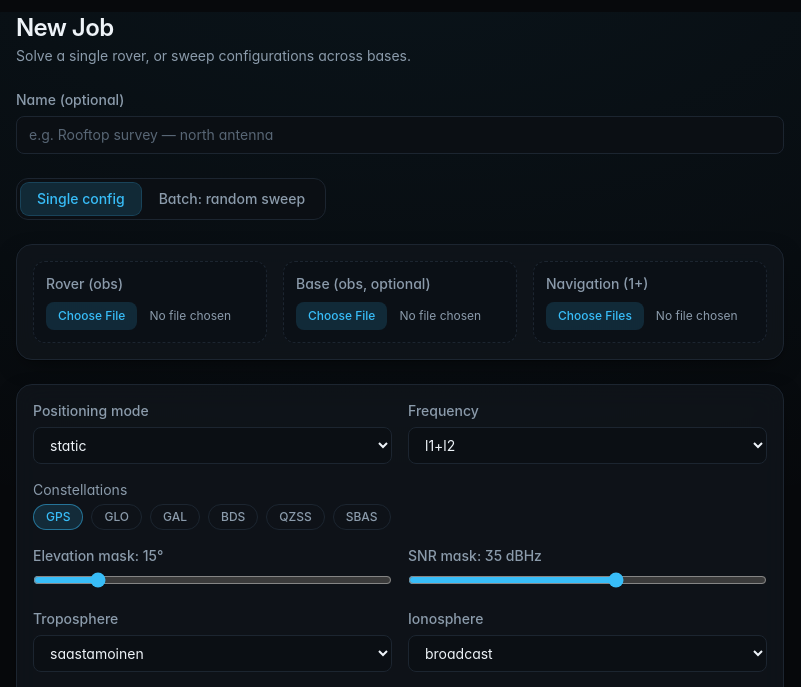
it: NewJob batch mode › switching to batch mode reveals multi-base add button and sweep config form
Click the radio button labelled "Batch: random sweep": (232, 198) [159, 190, 305, 207]
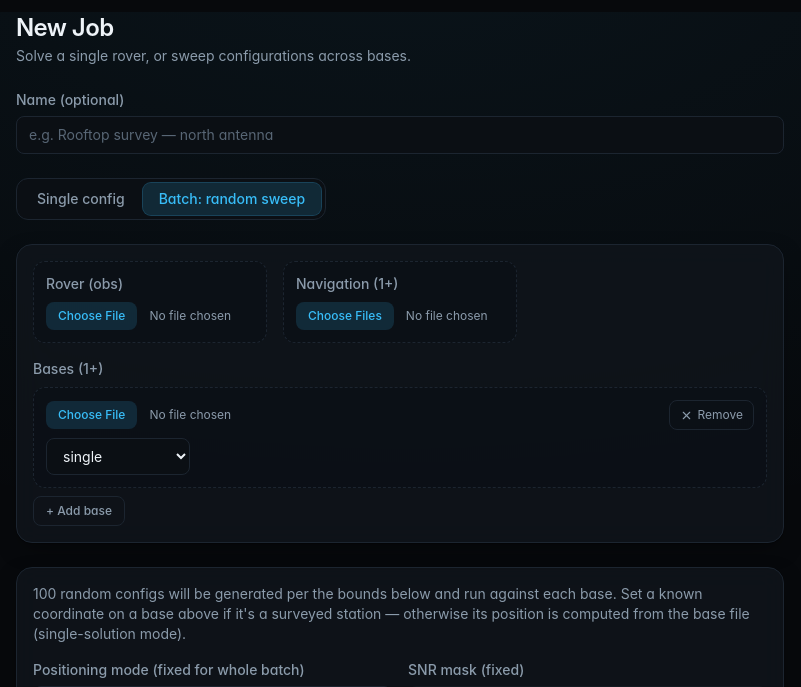
Expected: the button "+ Add base" is shown, [33, 496, 125, 526]
Expected: the text "Positioning mode (fixed for whole batch)" is shown, [33, 661, 305, 678]
